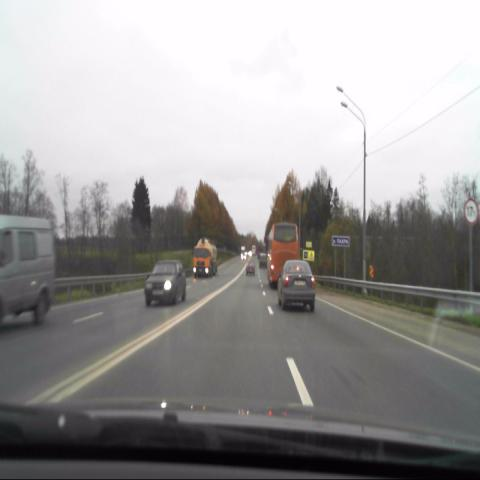3_11: (464, 199, 478, 223)
